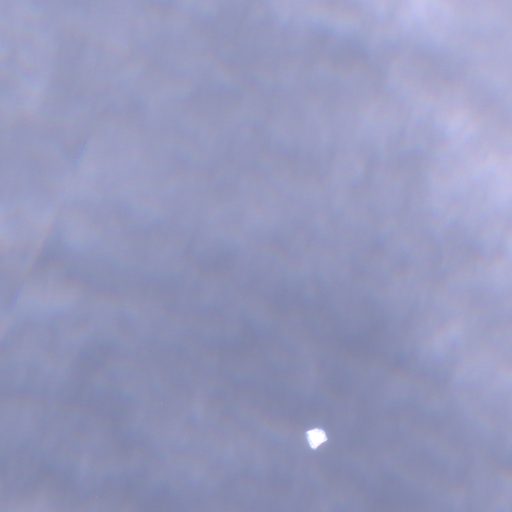Iceberg: (305, 426, 327, 449)
